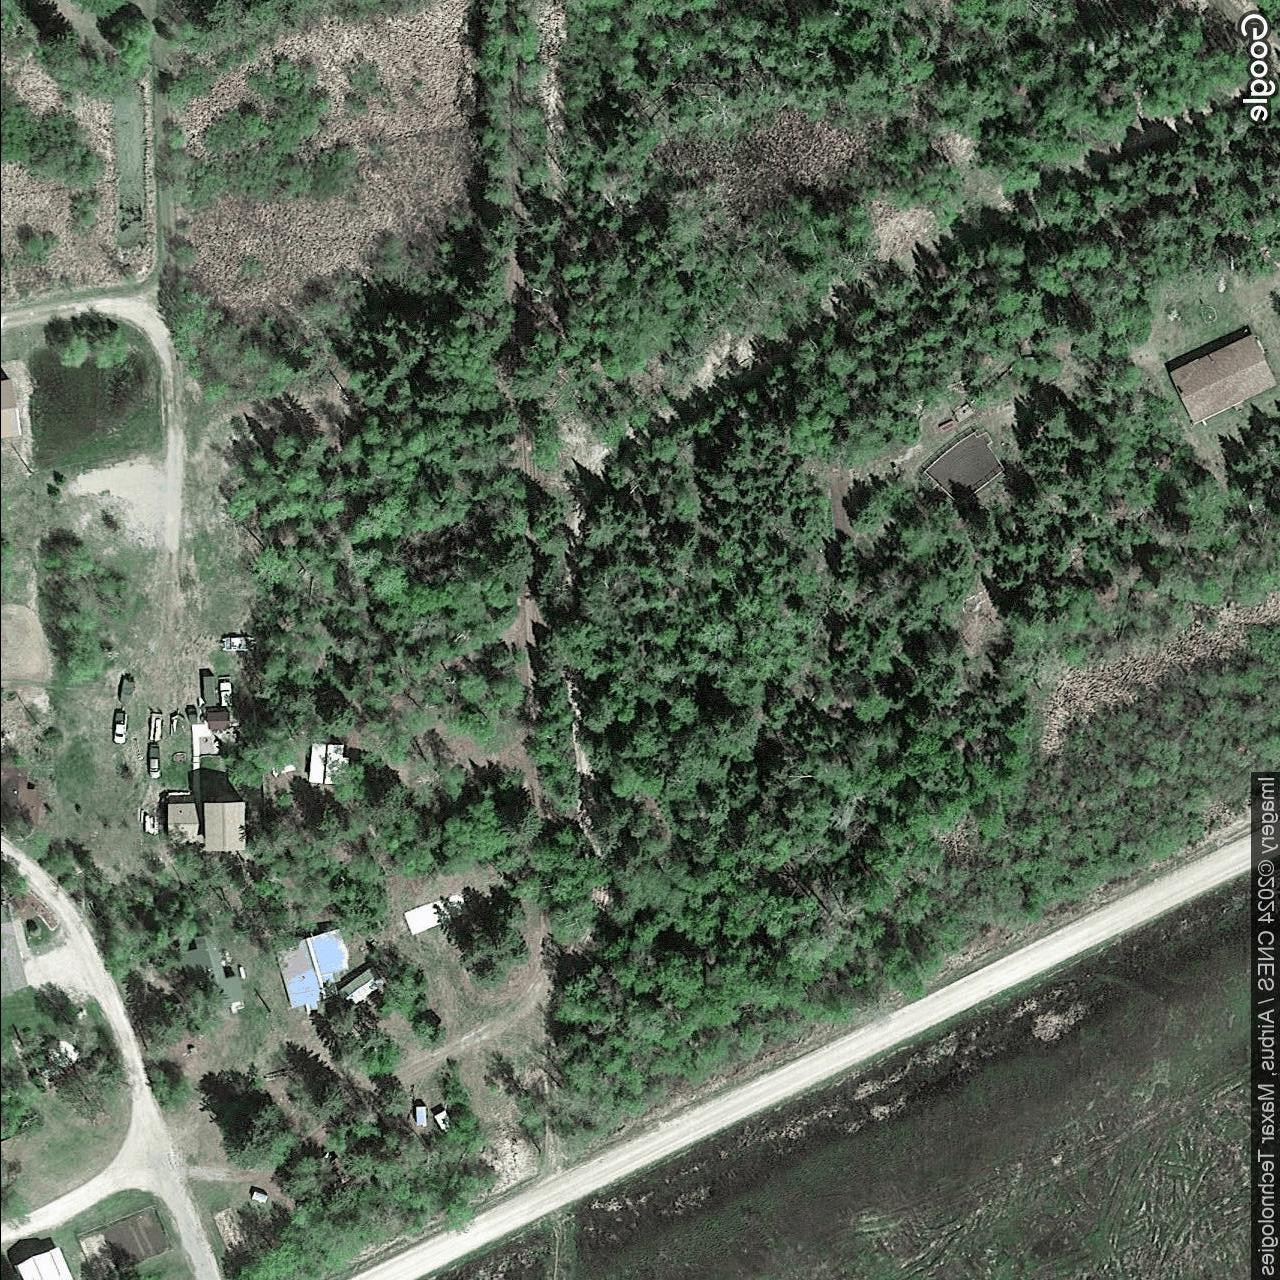Garage: (272, 927, 348, 1012), (307, 743, 348, 784)
House: (1167, 334, 1276, 423), (183, 934, 243, 1007), (166, 802, 246, 851), (15, 1246, 74, 1280), (0, 377, 22, 438)
Propane: (236, 964, 247, 980)
